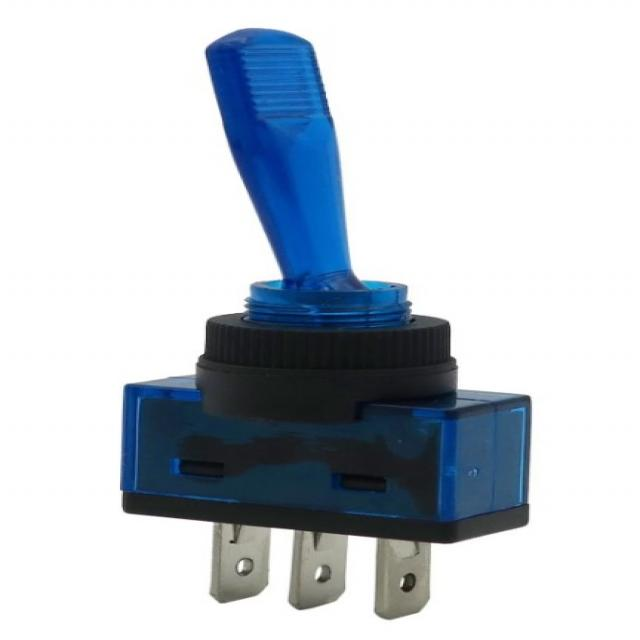toggle switch: (197, 26, 465, 423)
